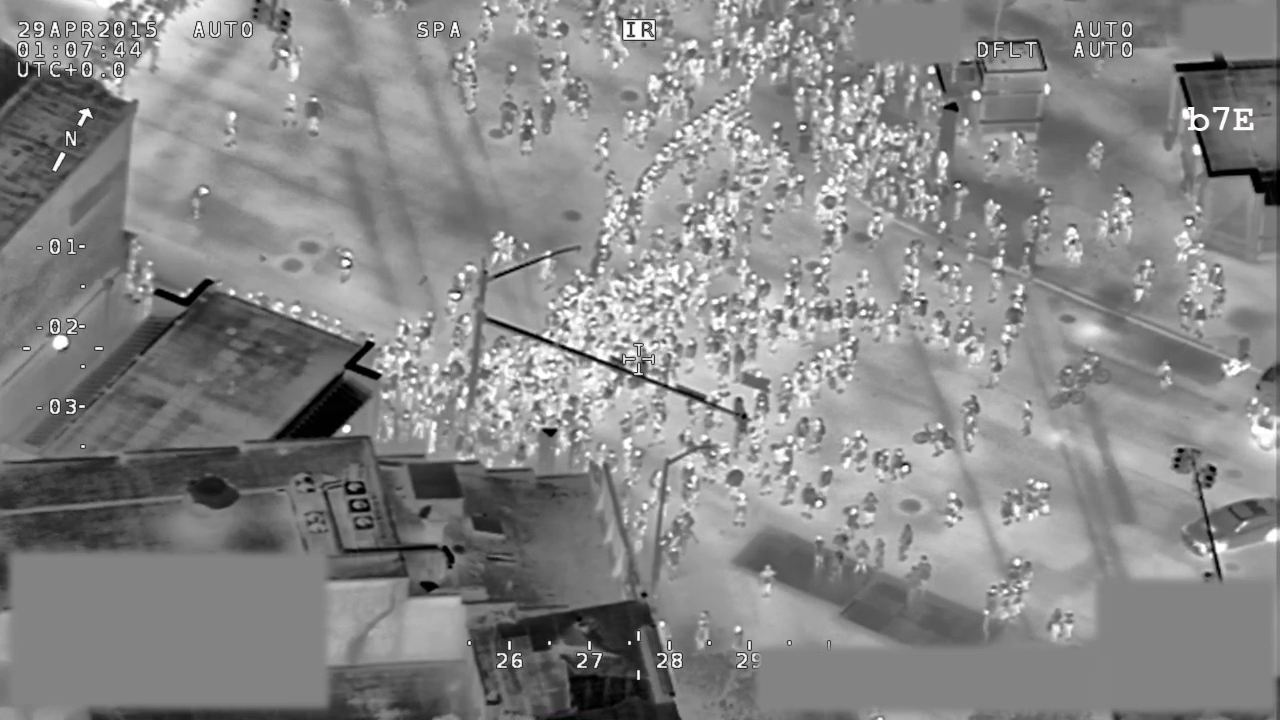vehicle: (1174, 495, 1280, 563)
